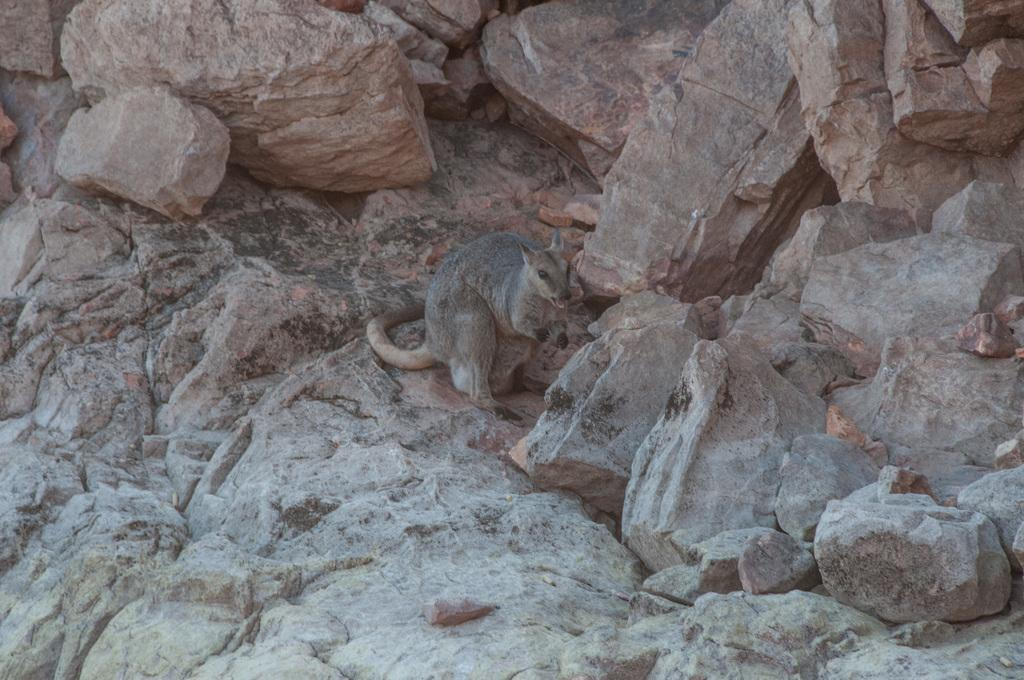kangaroo: (369, 230, 571, 425)
